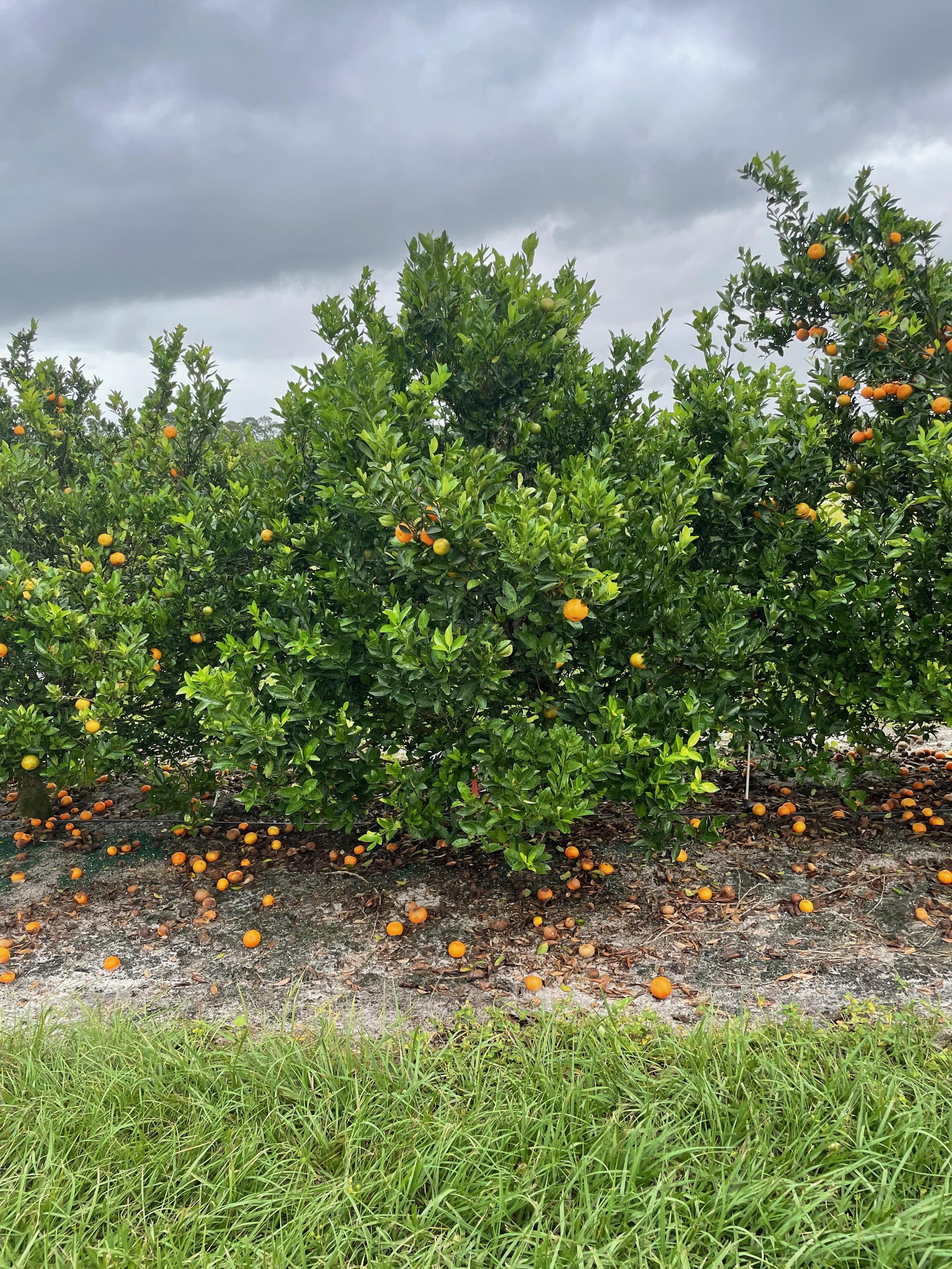fruit_on_ground: (560, 595, 590, 623), (392, 520, 418, 546), (422, 500, 447, 523), (418, 524, 441, 548), (627, 649, 649, 671), (806, 240, 828, 261), (760, 493, 781, 514), (895, 380, 915, 402), (790, 500, 812, 520), (930, 394, 950, 416), (540, 702, 561, 722), (432, 537, 452, 558), (19, 752, 40, 771), (800, 504, 819, 525), (886, 376, 904, 398), (920, 344, 940, 363), (870, 329, 889, 349), (537, 296, 557, 314), (95, 531, 115, 549), (161, 423, 180, 441), (885, 228, 904, 246), (859, 427, 879, 444), (850, 428, 868, 446), (836, 373, 855, 390), (843, 478, 861, 495), (108, 549, 126, 566), (937, 321, 952, 341), (552, 655, 569, 672), (40, 387, 57, 404), (870, 385, 887, 402), (792, 317, 810, 333), (54, 392, 70, 410), (83, 718, 101, 734), (875, 306, 894, 321), (843, 460, 860, 476), (168, 463, 184, 480), (835, 392, 852, 408), (259, 528, 276, 544), (823, 341, 840, 357), (78, 559, 95, 575), (794, 326, 810, 343), (74, 696, 92, 711), (189, 629, 205, 645), (859, 385, 876, 400), (201, 603, 217, 618), (941, 336, 952, 357), (12, 422, 27, 437), (148, 645, 163, 660), (808, 325, 824, 339), (528, 421, 542, 436), (878, 381, 892, 396), (0, 641, 11, 658), (817, 326, 829, 339)
fruit_on_tree: (649, 974, 673, 999), (408, 903, 428, 923), (241, 928, 261, 948), (446, 939, 467, 958), (523, 973, 544, 991), (914, 905, 933, 923), (696, 884, 714, 902), (718, 883, 737, 900), (385, 919, 404, 936), (797, 896, 815, 913), (103, 954, 121, 971), (578, 942, 596, 958), (536, 886, 554, 902), (936, 867, 952, 884), (564, 844, 581, 860), (191, 857, 208, 873), (910, 821, 928, 836), (24, 919, 42, 934), (188, 853, 204, 869), (792, 817, 808, 833), (192, 887, 209, 902), (171, 850, 188, 865), (597, 861, 615, 875), (751, 801, 767, 816), (73, 890, 89, 905), (688, 816, 705, 830), (12, 830, 29, 844), (579, 856, 596, 870), (156, 922, 171, 937), (1, 968, 16, 983), (543, 925, 558, 940), (565, 876, 581, 890), (673, 847, 687, 863), (242, 831, 258, 845), (68, 865, 84, 879), (775, 804, 791, 818), (3, 789, 20, 802), (0, 933, 13, 950), (228, 869, 245, 882), (0, 946, 12, 964), (929, 815, 947, 827), (16, 908, 31, 922), (562, 915, 577, 929), (260, 893, 275, 907), (10, 869, 26, 882), (789, 891, 803, 905), (850, 797, 865, 810), (830, 807, 845, 820), (778, 784, 793, 797), (60, 794, 75, 807), (225, 828, 240, 841), (919, 805, 934, 818), (205, 848, 220, 861), (766, 782, 782, 794), (900, 797, 916, 809), (56, 788, 70, 801), (782, 801, 797, 813), (44, 780, 59, 792), (900, 809, 915, 821), (266, 825, 281, 837), (204, 907, 219, 919), (918, 745, 934, 756), (531, 912, 544, 925), (215, 877, 228, 890), (881, 799, 895, 811), (173, 825, 187, 837), (281, 822, 295, 834), (270, 838, 284, 850), (342, 854, 357, 865), (435, 837, 448, 849), (935, 749, 948, 761), (130, 839, 143, 851), (352, 843, 365, 855), (916, 762, 930, 773), (303, 840, 317, 851), (59, 810, 71, 822), (239, 856, 251, 868), (80, 808, 92, 820), (120, 842, 133, 853), (845, 748, 858, 759), (910, 781, 923, 792), (385, 841, 398, 852), (941, 759, 952, 771), (913, 748, 925, 759), (160, 763, 172, 774), (238, 819, 250, 830), (30, 816, 42, 827), (327, 849, 339, 860), (93, 800, 105, 811), (61, 837, 74, 847), (923, 778, 936, 788), (898, 788, 912, 797), (72, 804, 83, 815), (65, 822, 76, 833), (71, 829, 83, 839), (201, 824, 213, 834), (898, 765, 910, 775), (97, 774, 109, 784), (140, 782, 152, 792), (106, 844, 118, 854), (104, 797, 114, 808), (44, 820, 55, 830), (249, 760, 259, 770), (46, 815, 58, 823), (202, 790, 212, 799)
